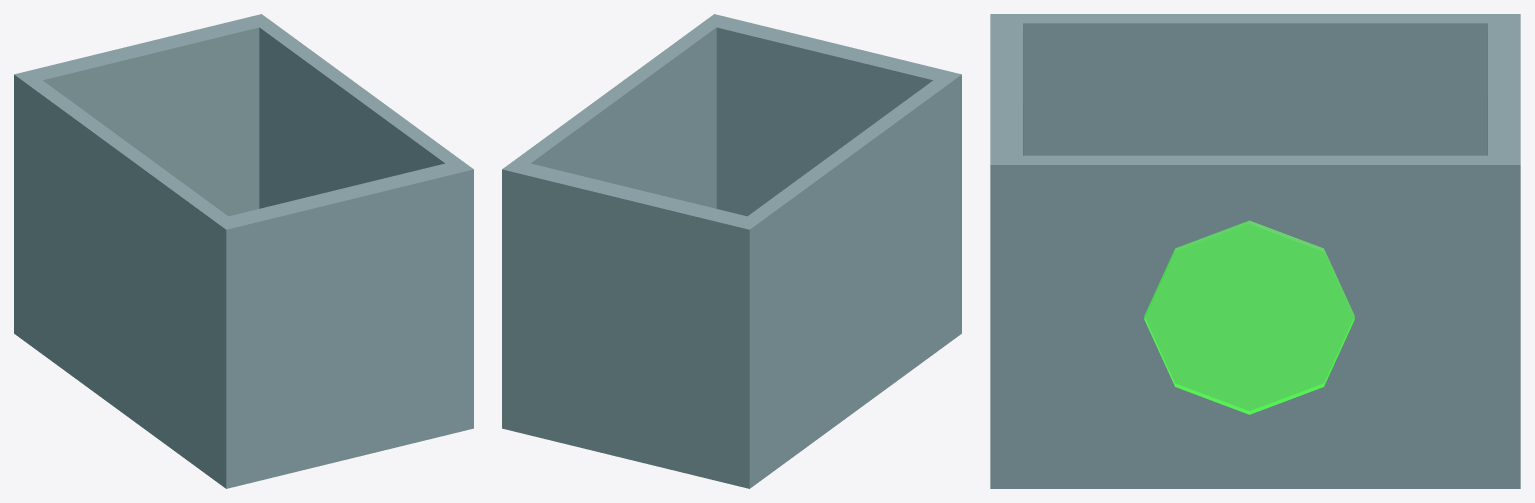
The model's file is CajaVer.fbx.
The picture shows the model from 3 angles, left to right: view 1: azimuth 30°, elevation 25°; view 2: azimuth 150°, elevation 25°; view 3: azimuth 270°, elevation 25°; orthographic projection. The views are drawn at different scales.
Parts seen in each view (by area): view 1: Cubo.001; view 2: Cubo.001; view 3: Cubo.001, Cilindro.001.
Part boxes in pixels (box(x1,y1,x2,y2)): Cubo.001: box(14, 14, 473, 488); Cubo.001: box(502, 14, 961, 488); Cubo.001: box(990, 14, 1520, 488); Cilindro.001: box(1144, 220, 1354, 414).
Size of the model in its own units: 205 by 200 by 297.
